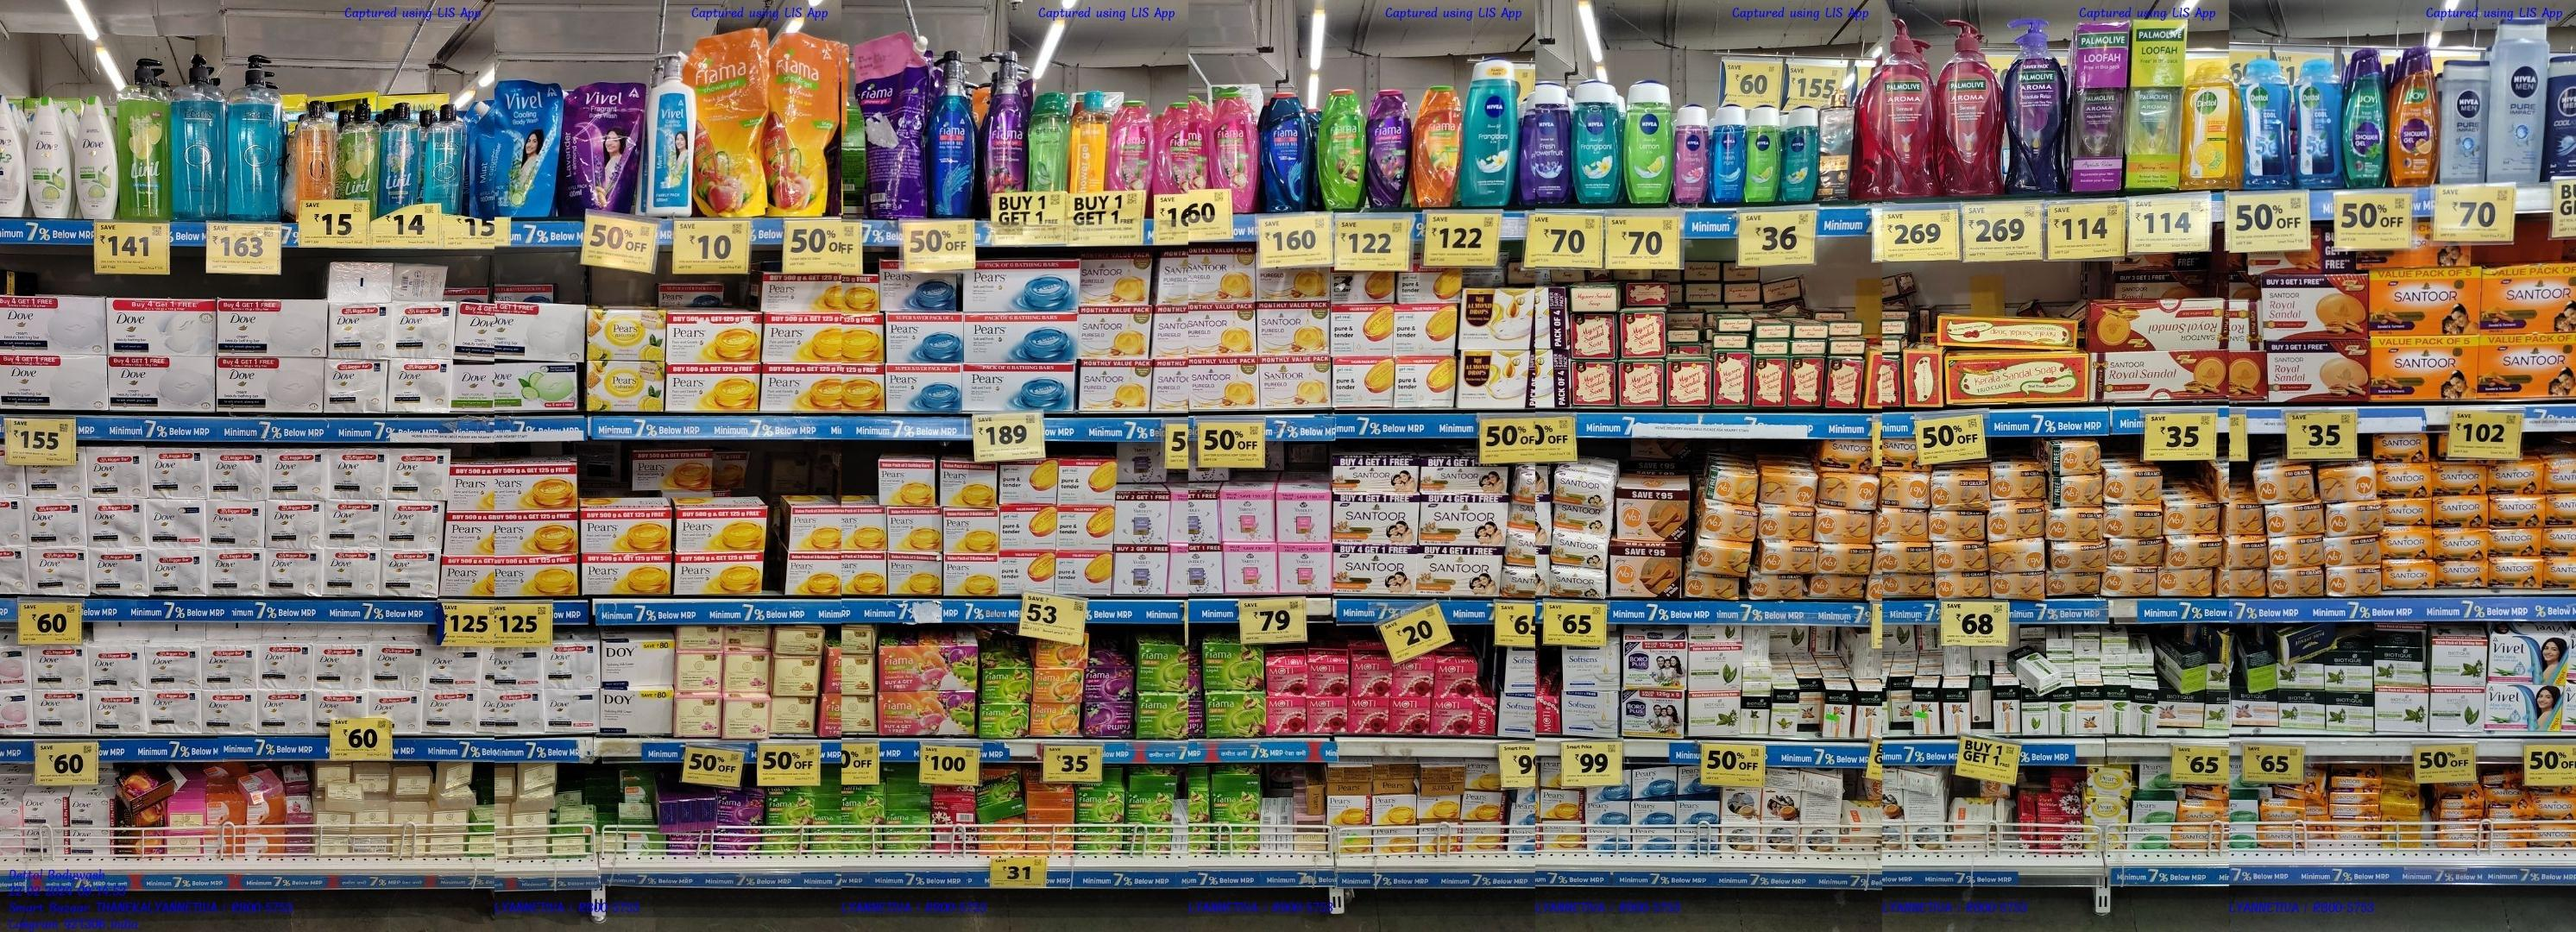Dettol_Bodywash_Cool: (2295, 56, 2344, 187), (2242, 61, 2292, 191)
Dettol_Bodywash_Refresh: (2185, 59, 2238, 187)
Dove_Refreshing_Body_Wash_250ML: (72, 92, 118, 222), (26, 94, 74, 219)
Fiama_Shower_Gel_Lemongrass_and_Jojoba_250ML: (1319, 89, 1367, 209)
Fiama_Shower_Gel_Patchouli_and_Macadamia_250ML: (1211, 84, 1258, 192), (1109, 100, 1152, 189)
Fiama_Shower_Gel_Peach_and_Avocado_250ML: (1411, 87, 1459, 209)
Joy_Shower_Gel_Mandarin_and_Lemongrass_250ML: (2390, 39, 2443, 186)
Joy_Shower_Gel_Mint_and_Eucalyptus_250ML: (2348, 43, 2390, 191)
Nivea_Shower_Gel_Frangipani_and_Oil_250ML: (1459, 58, 1518, 207), (1572, 81, 1620, 204)
Nivea_Shower_Gel_Fresh_Powerfruit_250ML: (1536, 82, 1574, 205)
Nivea_Shower_Gel_Lemon_and_Oil_250ML: (1620, 79, 1674, 205)
Pears_Pure_Glycerin_and_Mint_Extracts_Body_Wash_250ML: (427, 104, 463, 205)
